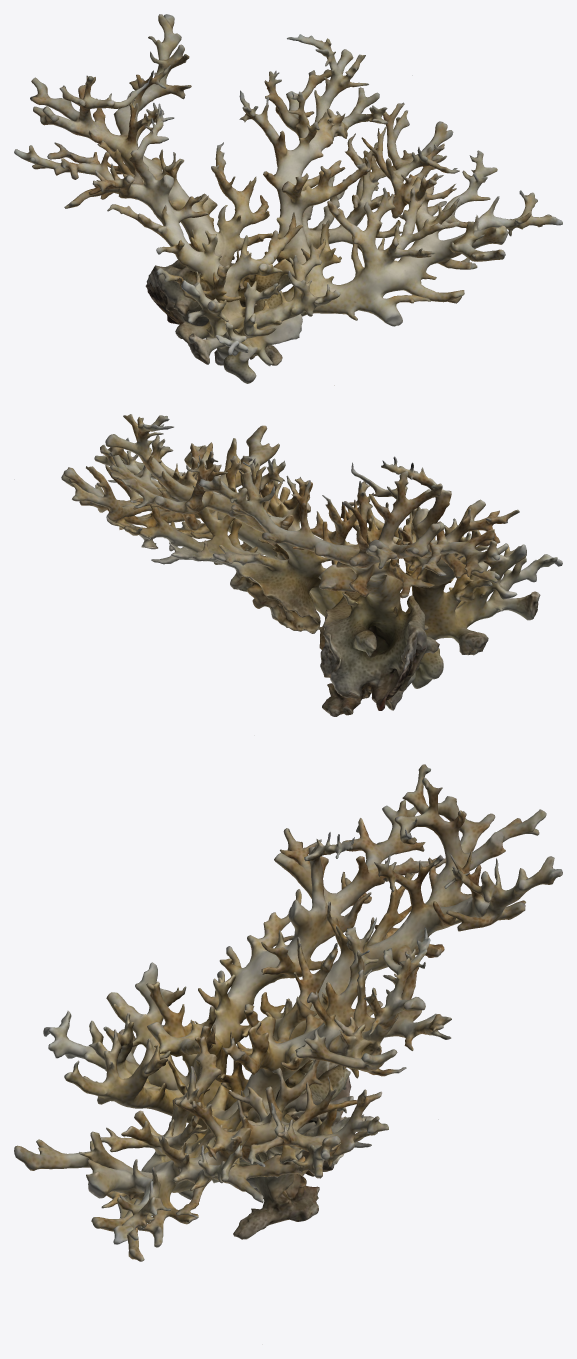
The model's file is pocillopora_damicornis.glb.
3 renders of one model, top to bottom at view 1: azimuth 30°, elevation 25°; view 2: azimuth 150°, elevation 25°; view 3: azimuth 270°, elevation 25°, orthographic. The views are drawn at different scales.
Parts seen in each view (by area): view 1: Object_4, Object_5; view 2: Object_4, Object_5; view 3: Object_4, Object_5.
Part boxes in pixels (<box>): Object_4: <box>14,14,562,385</box>; Object_5: <box>82,162,525,291</box>; Object_4: <box>61,414,562,716</box>; Object_5: <box>136,438,488,637</box>; Object_4: <box>14,764,562,1261</box>; Object_5: <box>40,852,391,1228</box>.
Size of the model in its own units: 0.185 by 0.1258 by 0.1425.
Materials: 1 (1 with a texture image).
